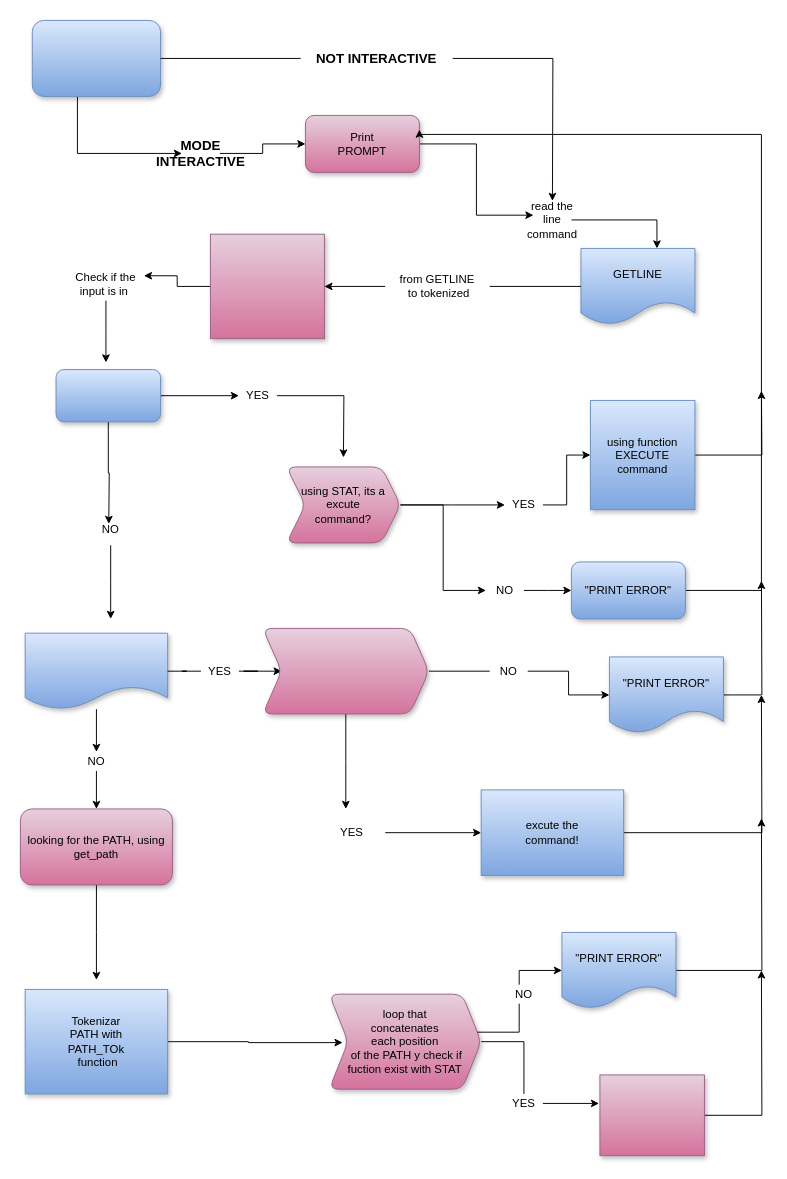
The diagram is 787 pixels wide and 1179 high, and some of its shapes have lost their labels. Here are the shapes that lost their labels. From the top down, the centre of each, then its label:
At (97,59): "SHELL".
At (268,287): "TOKENIZER".
At (108,396): "PATH".
At (96,672): "Ask its BUILT-IN".
At (346,672): "check if the function exists, using STAT".
At (652,1116): "Execute the command".
